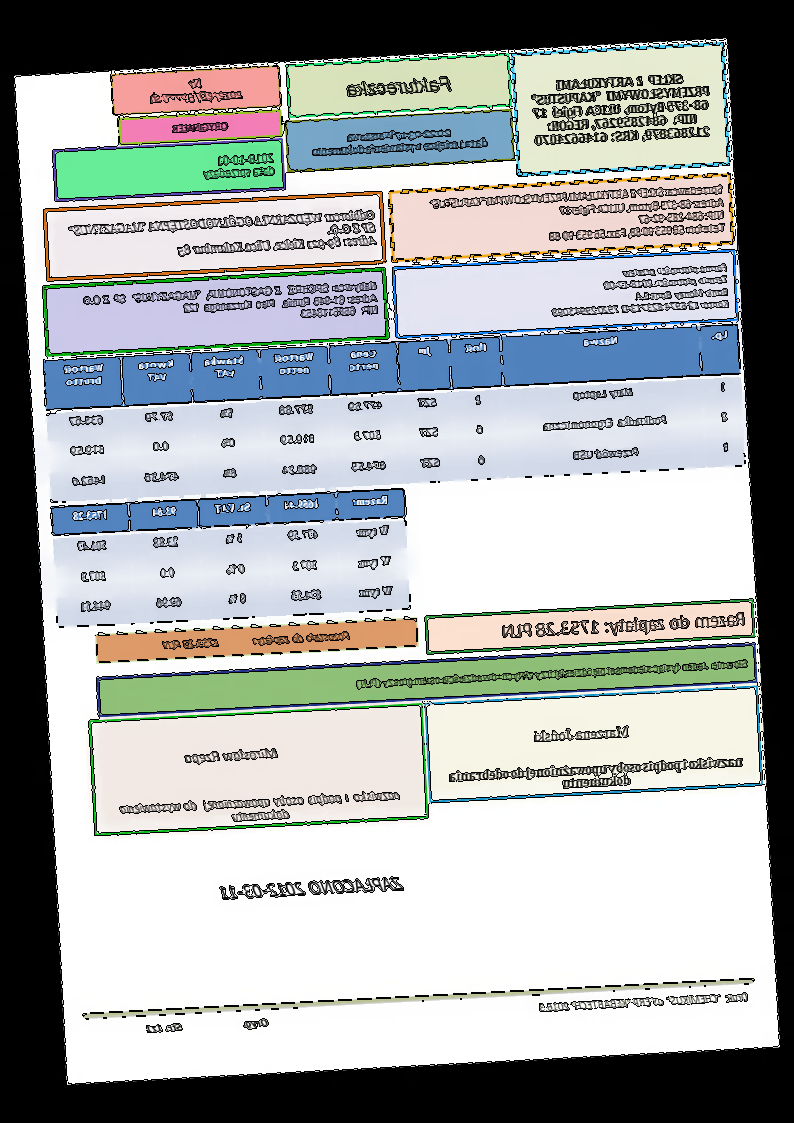Table: (41, 321, 747, 504), (49, 485, 412, 627)
TextBox: (429, 179, 729, 251), (66, 204, 379, 266), (79, 277, 380, 332), (528, 67, 716, 149), (353, 655, 752, 693), (447, 753, 746, 797), (118, 785, 404, 830), (548, 260, 732, 320), (500, 607, 749, 643), (309, 122, 491, 160), (215, 870, 406, 904), (534, 988, 751, 1015), (159, 626, 354, 654), (147, 73, 246, 108), (345, 71, 456, 102), (144, 1015, 272, 1037), (532, 720, 633, 746), (203, 148, 278, 182), (181, 742, 280, 767), (172, 117, 231, 136)
